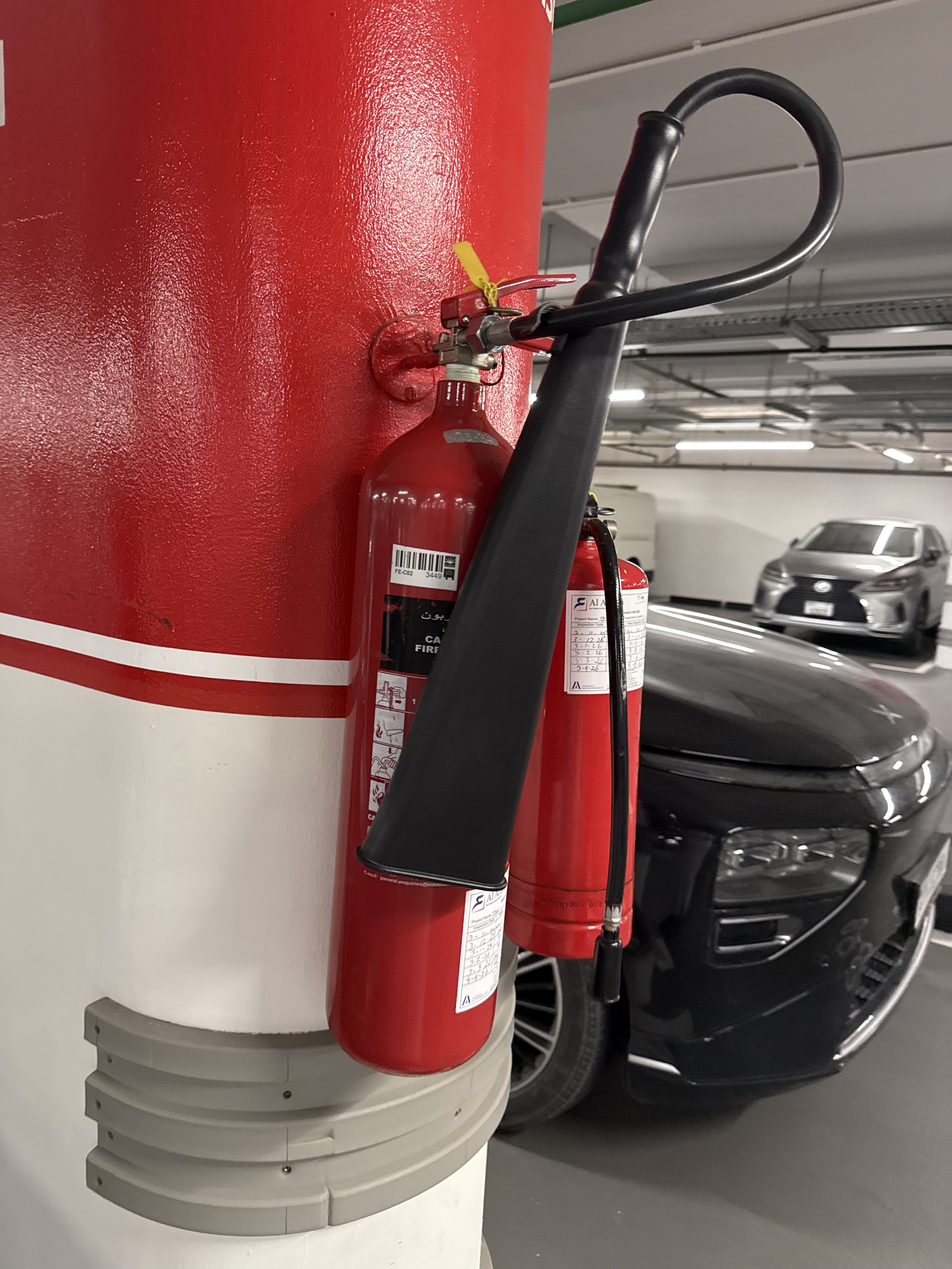fire_extinguisher: (325, 247, 649, 1078), (503, 490, 650, 971)
